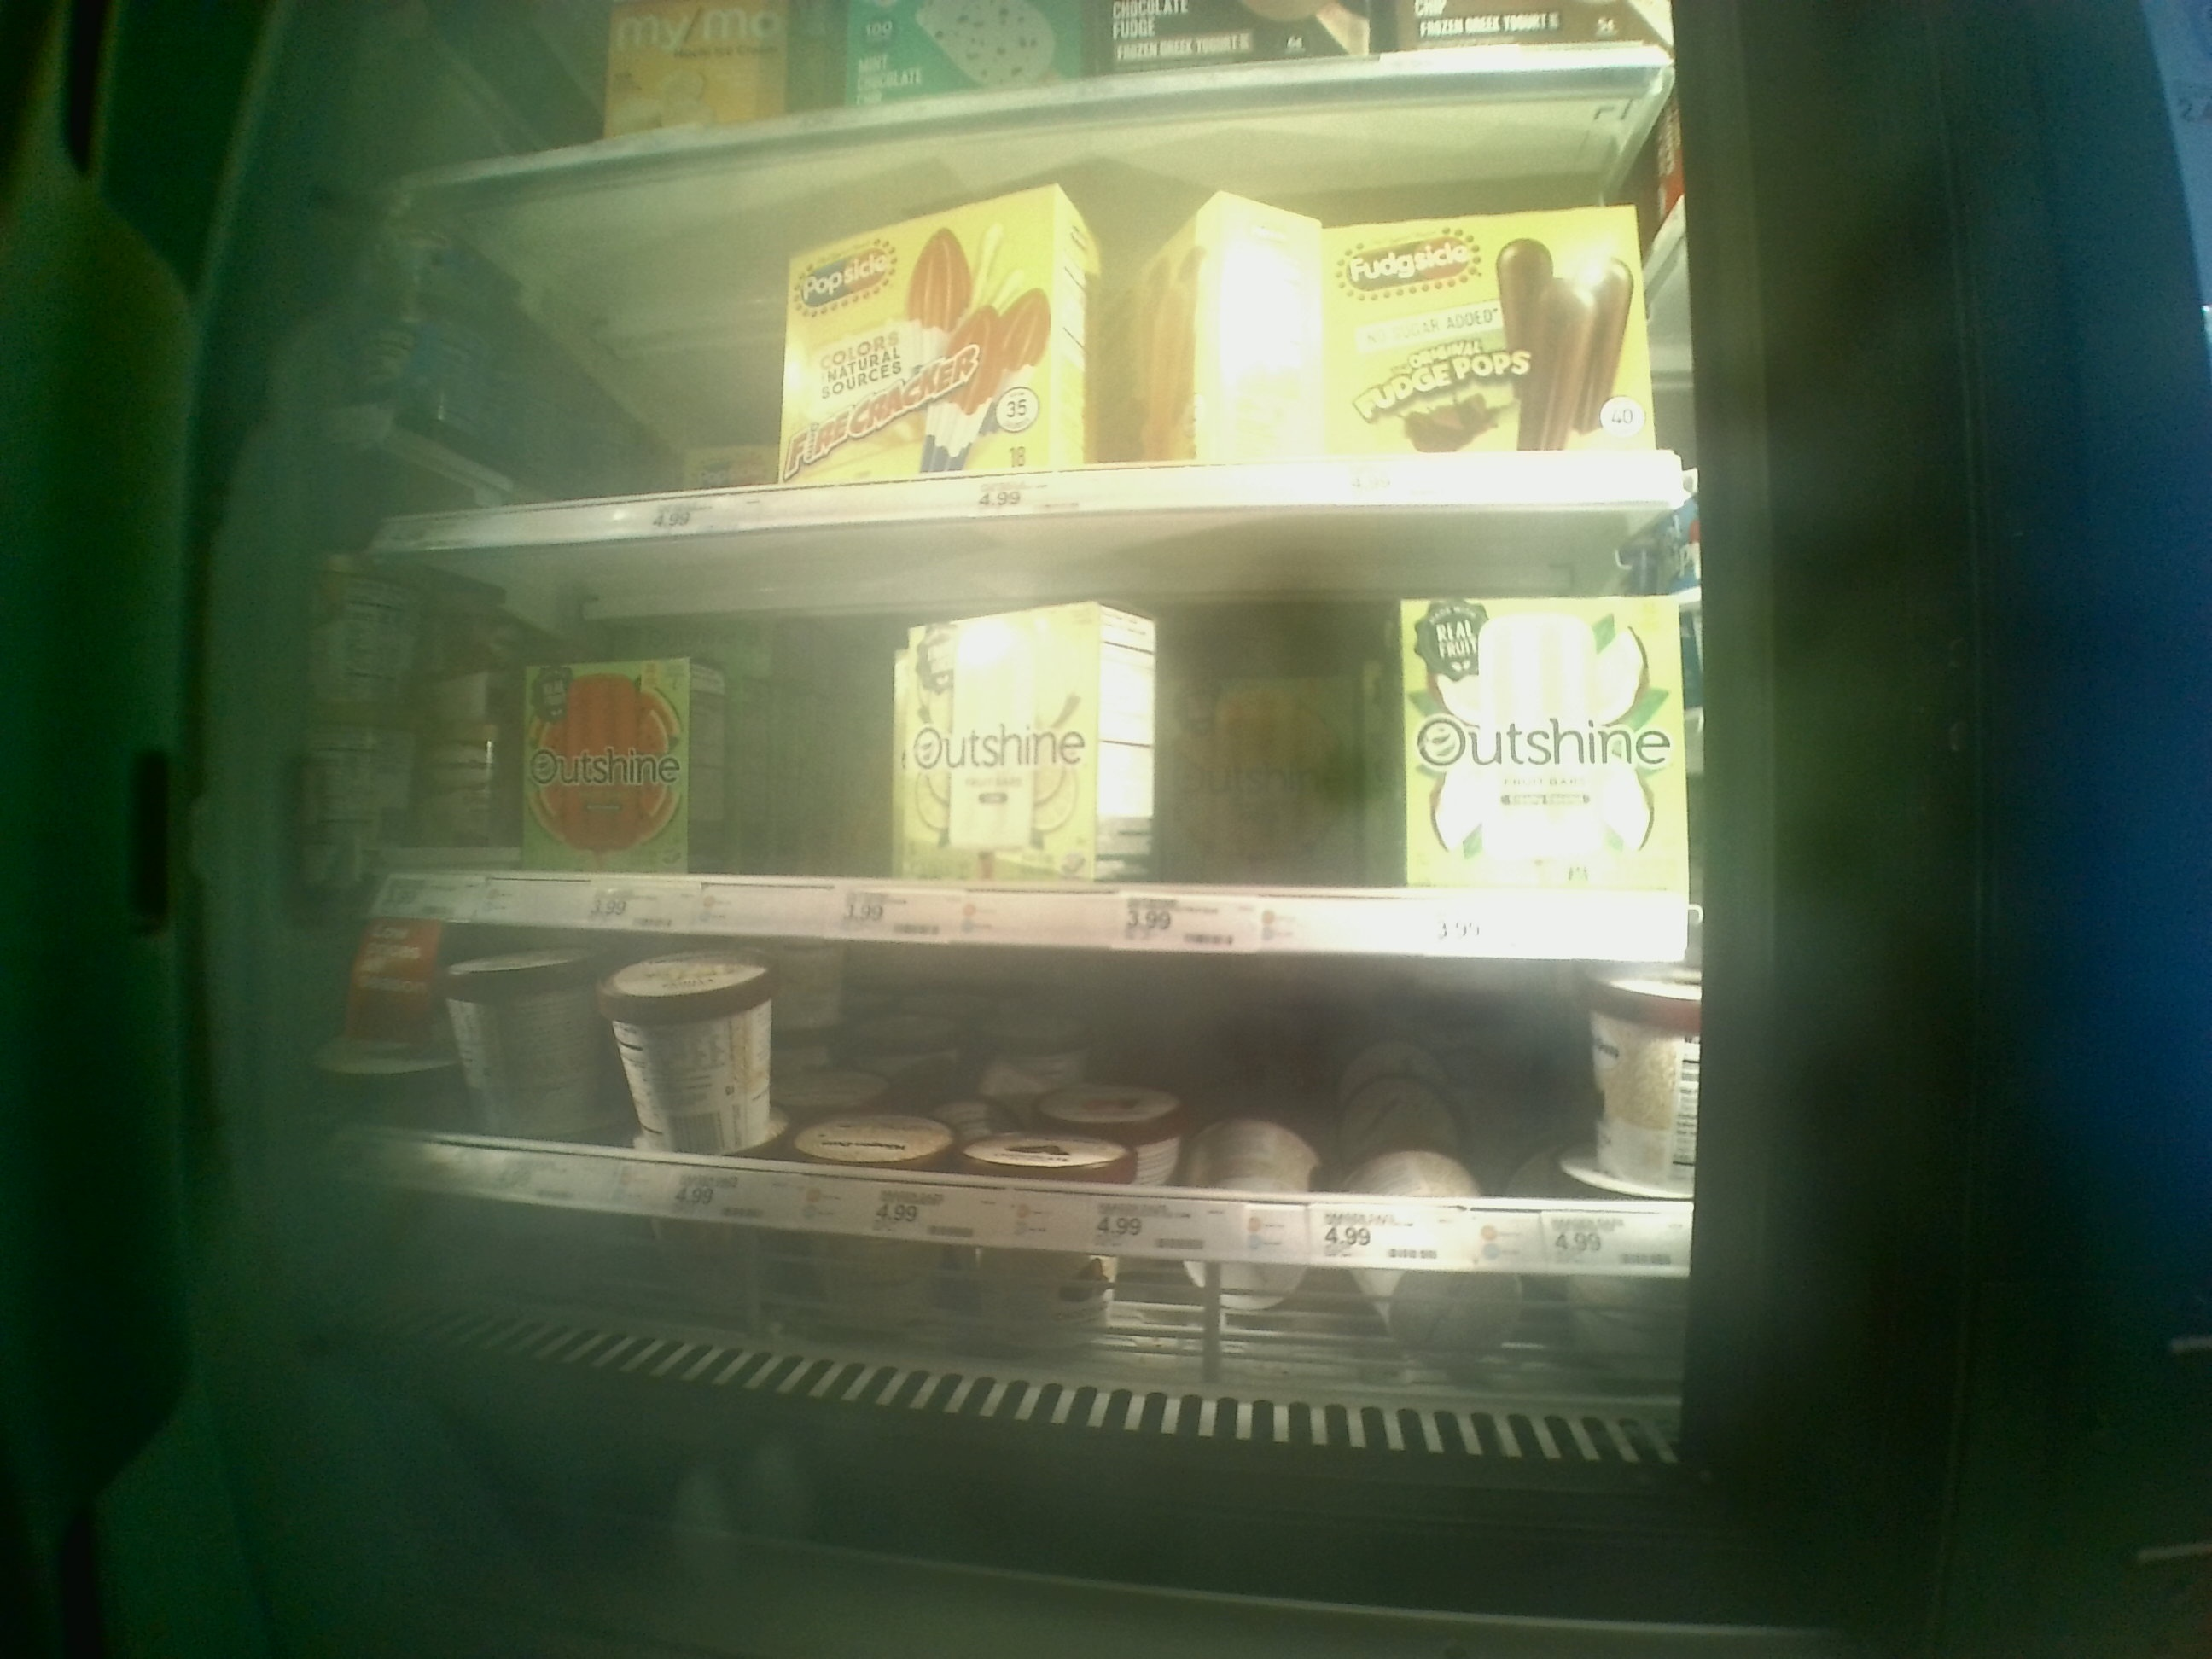shelf: (366, 939, 1696, 1396), (383, 518, 1695, 957), (387, 122, 1684, 507)
